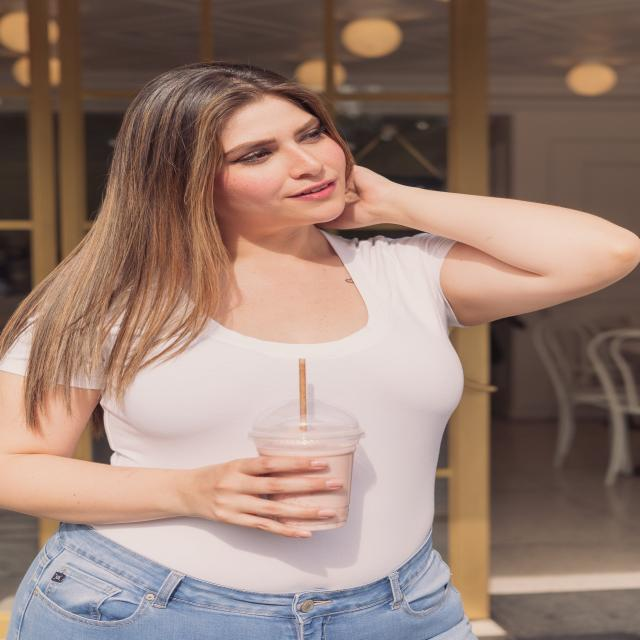cup: (247, 398, 364, 536)
